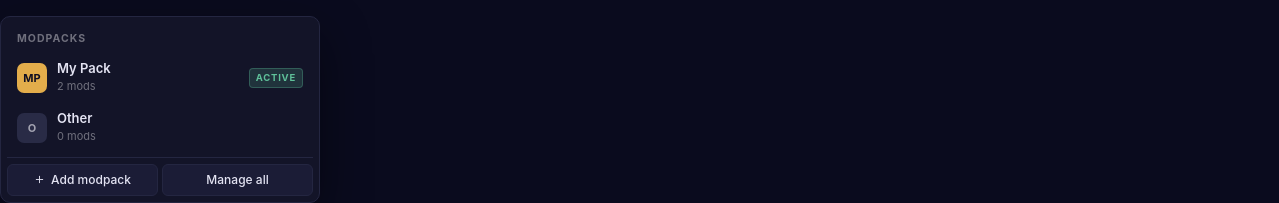
Test: <ProfileSwitcher> › reports installed pack mods that could not be activated after switch retries
The width and height of the screenshot is (1279, 203).
(page scrolled)
What coordinates should you click on to do the following:
click the text "Other"
I would click on:
 (75, 118)
Its box is [57,110,92,126].
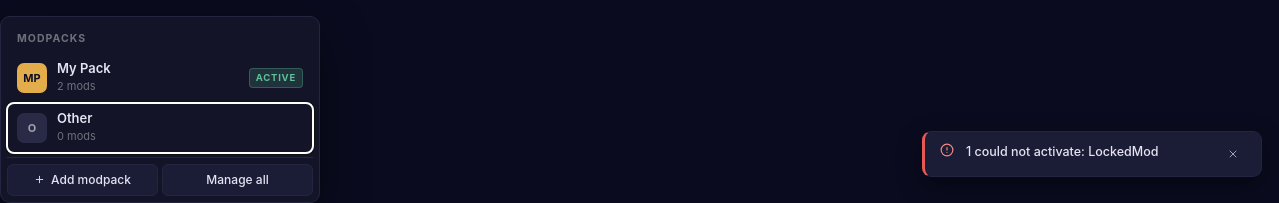
Now the text "1 could not activate: LockedMod" is shown, box [966,144,1158,159]
